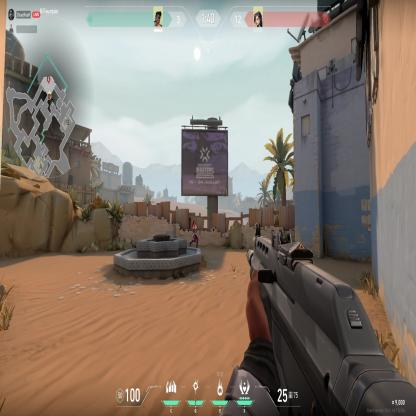enemy: (189, 218, 199, 248)
